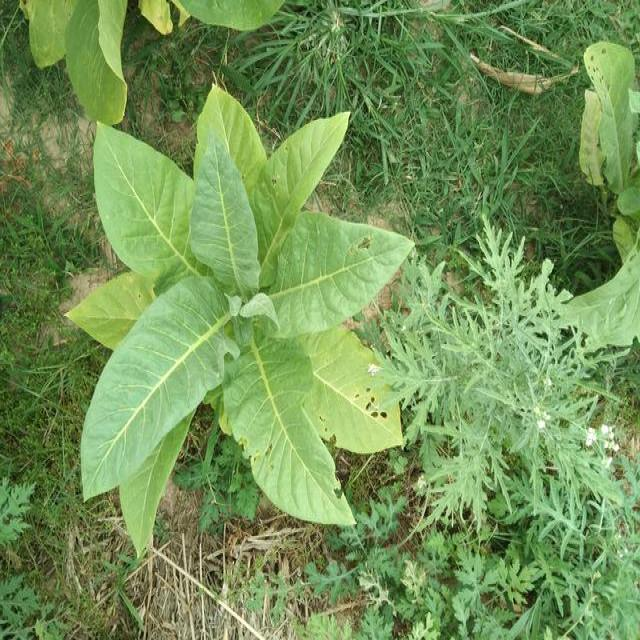crop: (76, 81, 402, 537)
